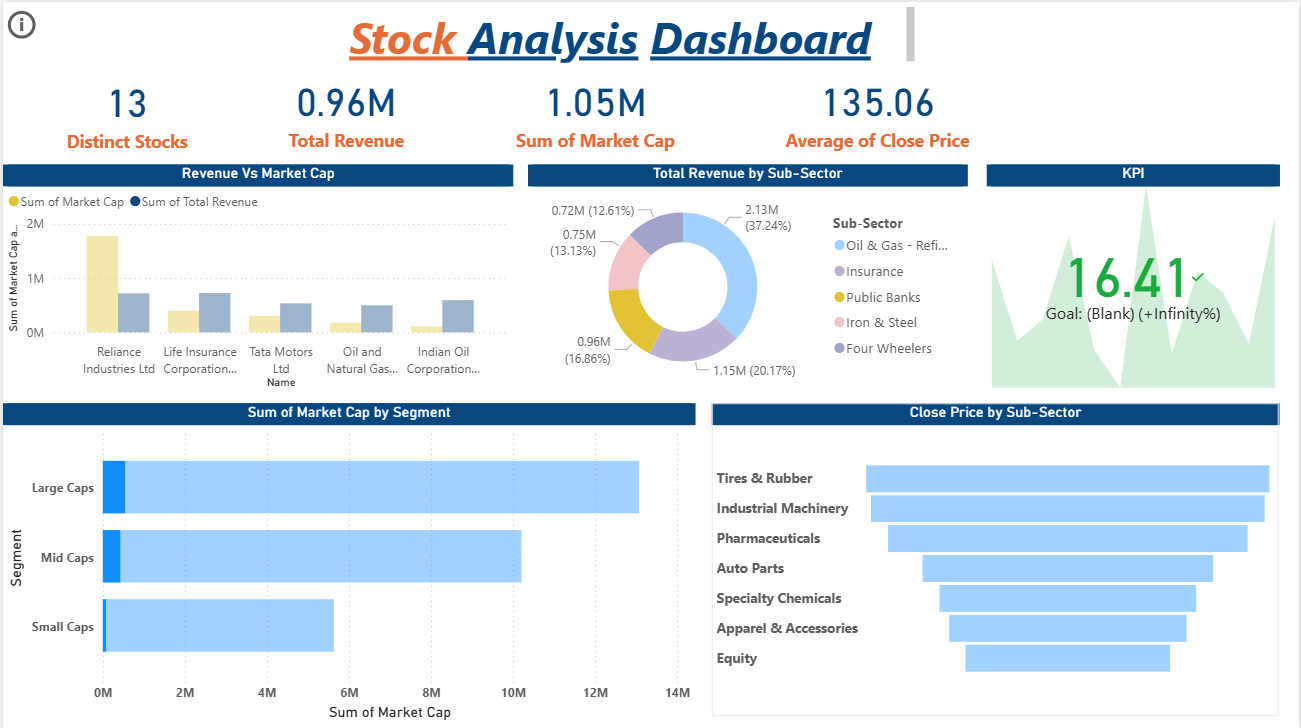

Layout of this report page (visuals, bound fields, positions):
{"tool":"powerbi","page":{"name":"Summary","canvas":[1280,720],"ordinal":0},"visuals":[{"type":"card","fields":{"Values":["Stock+Market+Dataset+for+Case+2 (1).Distinct Stocks"]},"box":[12.1,56.7,220.8,102.5],"z":0},{"type":"card","fields":{"Values":["Stock+Market+Dataset+for+Case+2 (1).Total Rev"]},"box":[220.8,56.7,236.5,100.1],"z":1000},{"type":"card","fields":{"Values":["Sum(Stock+Market+Dataset+for+Case+2 (1).Market Cap)"]},"box":[457.2,54.3,257,105],"z":2000},{"type":"card","fields":{"Values":["Avg(Stock+Market+Dataset+for+Case+2 (1).Close Price)"]},"box":[746.8,56.7,234,100.1],"z":3000},{"type":"clusteredColumnChart","title":"Revenue Vs Market Cap","fields":{"Category":["Stock+Market+Dataset+for+Case+2 (1).Name"],"Y":["Sum(Stock+Market+Dataset+for+Case+2 (1).Market Cap)","Sum(Stock+Market+Dataset+for+Case+2 (1).Total Revenue)"]},"box":[0,160.5,504.3,226.8],"z":4000},{"type":"donutChart","title":" Total Revenue by Sub-Sector","fields":{"Category":["Stock+Market+Dataset+for+Case+2 (1).Sub-Sector"],"Y":["Sum(Stock+Market+Dataset+for+Case+2 (1).Total Revenue)"]},"box":[518.8,160.5,434.3,225.6],"z":5000},{"type":"kpi","title":"KPI ","fields":{"Goal":["Sum(Stock+Market+Dataset+for+Case+2 (1).1Y Forward Revenue Growth)"],"TrendLine":["Stock+Market+Dataset+for+Case+2 (1).Name"],"Indicator":["Sum(Stock+Market+Dataset+for+Case+2 (1).5Y Historical Revenue Growth)"]},"box":[971.2,160.5,289.5,225.6],"z":6000},{"type":"barChart","fields":{"Category":["Stock+Market+Dataset+for+Case+2 (1).Segment","Stock+Market+Dataset+for+Case+2 (1).Sub-Sector","Stock+Market+Dataset+for+Case+2 (1).Name"],"Y":["Sum(Stock+Market+Dataset+for+Case+2 (1).Market Cap)"]},"box":[0,395.7,684.1,318.5],"z":7000},{"type":"textbox","box":[336.6,0,568.2,65.1],"z":8000},{"type":"funnel","title":"Close Price by Sub-Sector","fields":{"Category":["Stock+Market+Dataset+for+Case+2 (1).Sub-Sector"],"Y":["Sum(Stock+Market+Dataset+for+Case+2 (1).Close Price)"]},"box":[699.7,395.7,561,310.1],"z":9000},{"type":"actionButton","box":[0,0,36.9,45.2],"z":10000}]}

Visuals, with their boxes in screenshot pixels (x1, y1, x2, y2), scaled from the page's 1280x720 canvas onto the 1301x728 screenshot:
card - Stock+Market+Dataset+for+Case+2 (1).Distinct Stocks: left=12, top=57, right=237, bottom=161
card - Stock+Market+Dataset+for+Case+2 (1).Total Rev: left=224, top=57, right=465, bottom=159
card - Sum(Stock+Market+Dataset+for+Case+2 (1).Market Cap): left=465, top=55, right=726, bottom=161
card - Avg(Stock+Market+Dataset+for+Case+2 (1).Close Price): left=759, top=57, right=997, bottom=159
"Revenue Vs Market Cap" clusteredColumnChart: left=0, top=162, right=513, bottom=392
" Total Revenue by Sub-Sector" donutChart: left=527, top=162, right=969, bottom=390
"KPI " kpi: left=987, top=162, right=1281, bottom=390
barChart - Stock+Market+Dataset+for+Case+2 (1).Segment x Stock+Market+Dataset+for+Case+2 (1).Sub-Sector: left=0, top=400, right=695, bottom=722
textbox: left=342, top=0, right=920, bottom=66
"Close Price by Sub-Sector" funnel: left=711, top=400, right=1281, bottom=714
actionButton: left=0, top=0, right=38, bottom=46
